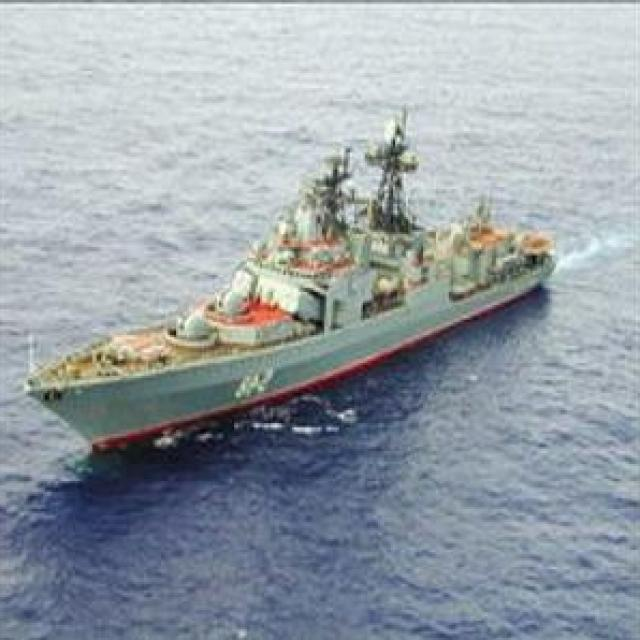navalvessels: (34, 108, 553, 464)
